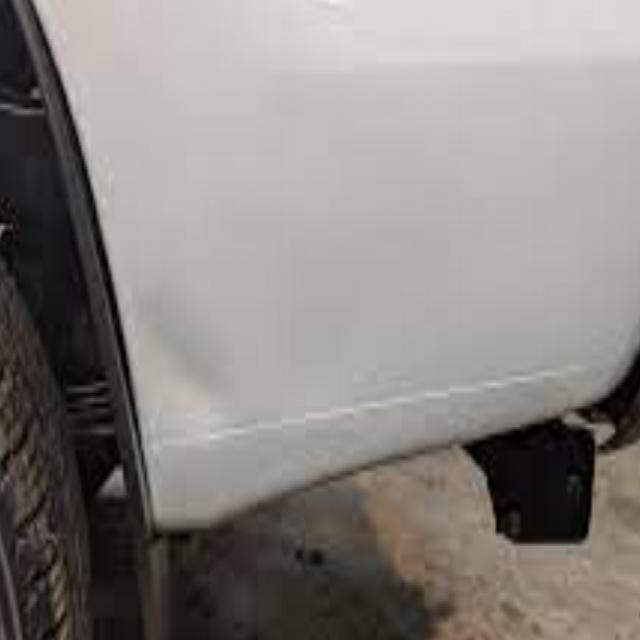dents: (128, 282, 239, 459)
